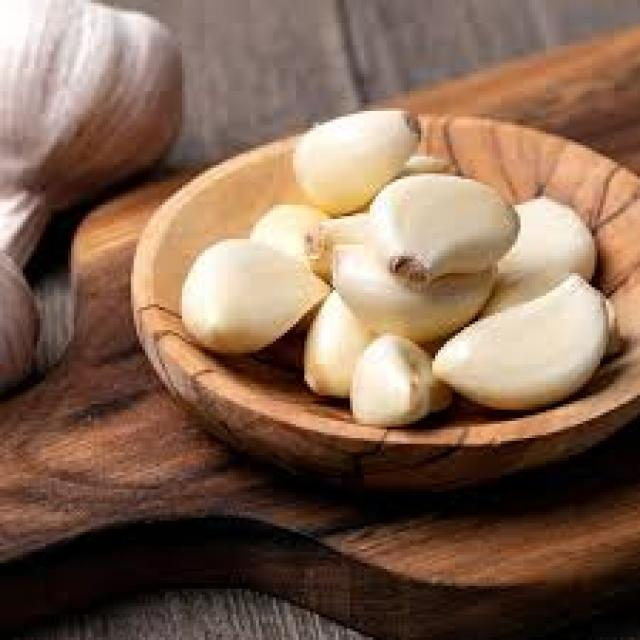Garlic bulb: (182, 162, 617, 428)
